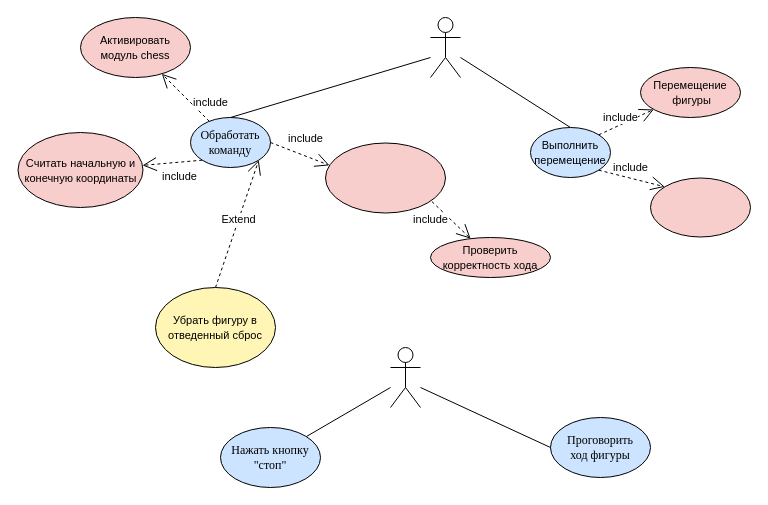
Image size: 768x505. Some labels were removed from this diagram. Each missing label, with the centre of its shape:
Вернуться в изначальное положение: the point at 700,207
Загрузить обновленное положение фигур в класс Board: the point at 385,177
Пользователь: the point at 405,377
Программа: the point at 445,47
